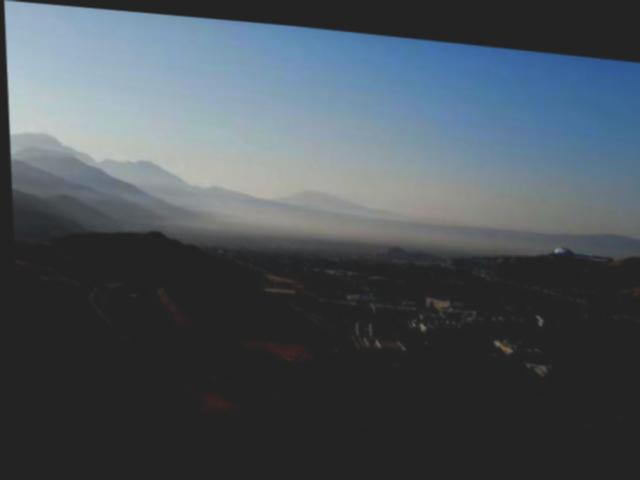iha: (540, 230, 616, 261)
